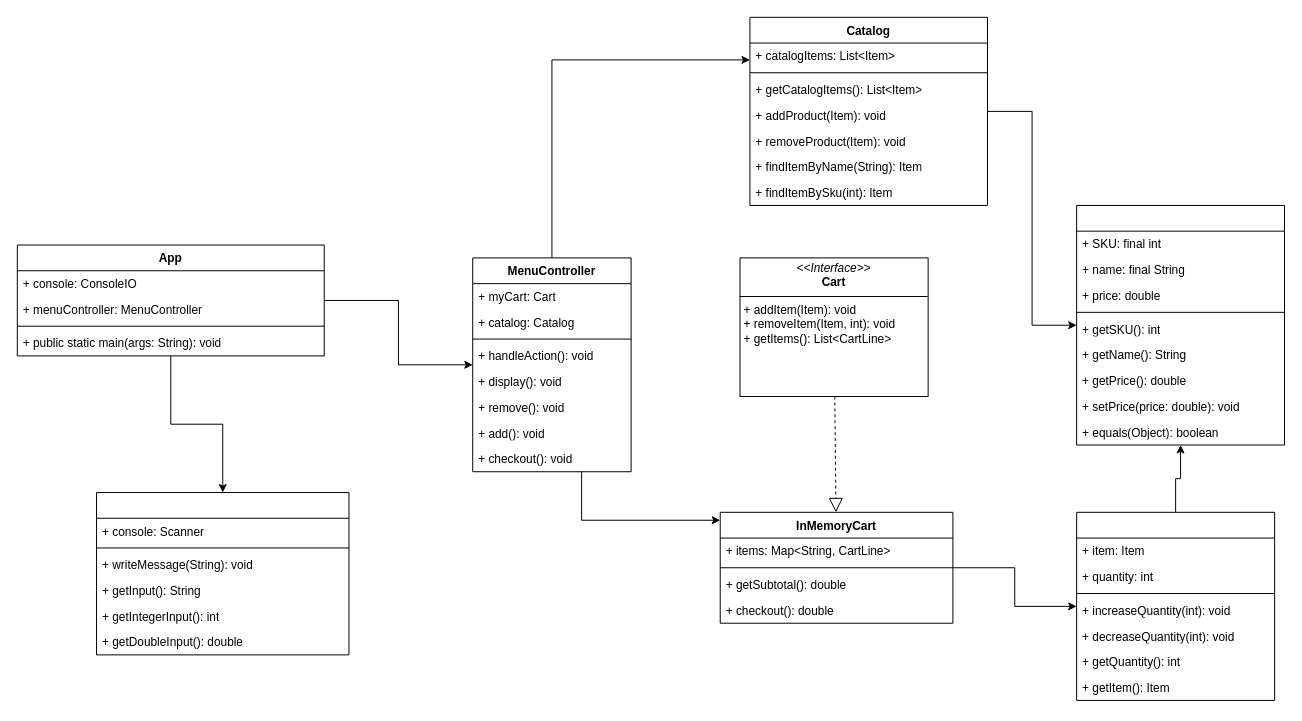
Some shapes in this 1302 by 721 pixel diagram are drawn without their labels. The box of each missing label's shape, as (x1, y1, x2, y2) in pixels:
CartLine: (1076, 511, 1275, 700)
ConsoleIO: (96, 492, 349, 655)
Item: (1076, 204, 1285, 445)
